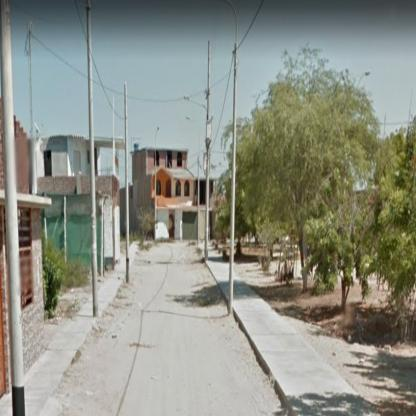Pista: (41, 242, 288, 412)
